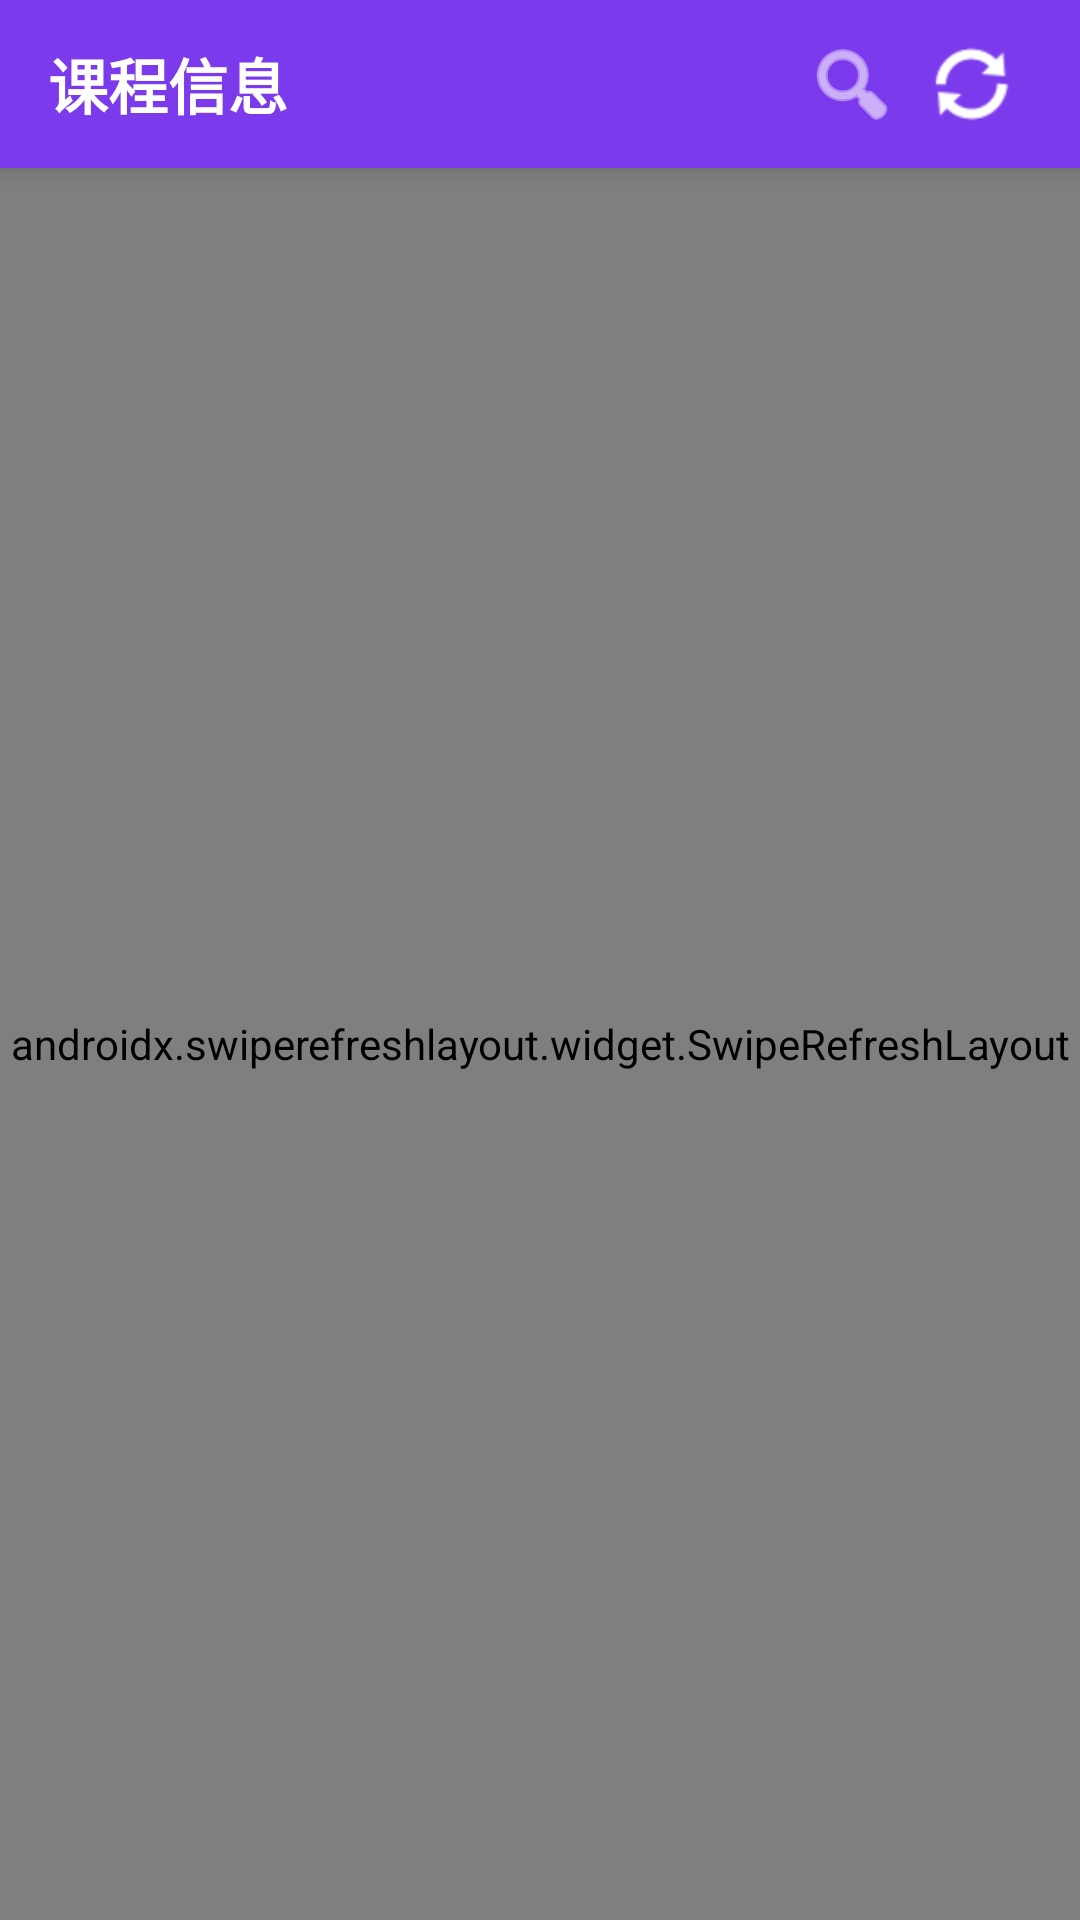

Point at icon controls on the screen. Image size 1080 x 1920, points as point (x, y).
刷新: point (971, 84)
搜索: point (852, 84)
